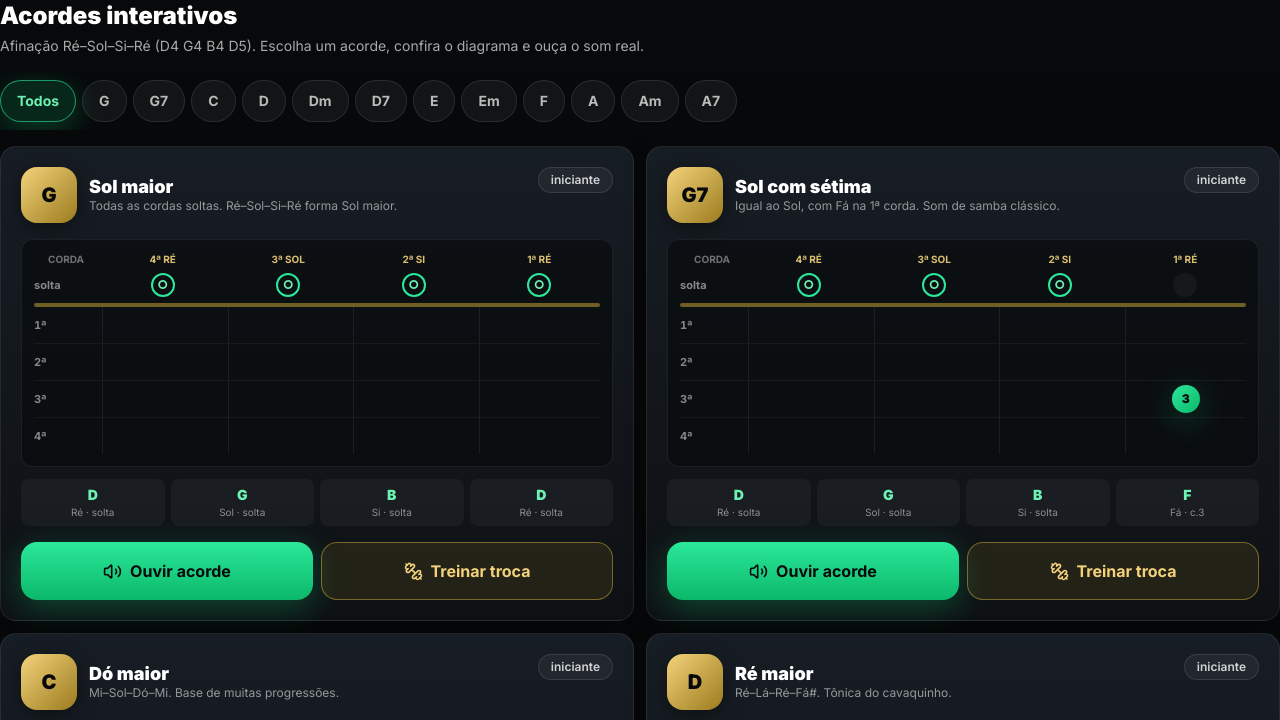
Scenario: seletor de acordes › filtra o diagrama pelo chip selecionado
Expected: the element with test id "chord-G" is shown, x1=0 y1=146 x2=634 y2=621
What coordinates should you click on to do the following:
click the tab "C"
I would click on:
 (214, 101)
Its box is x1=191 y1=80 x2=236 y2=122.
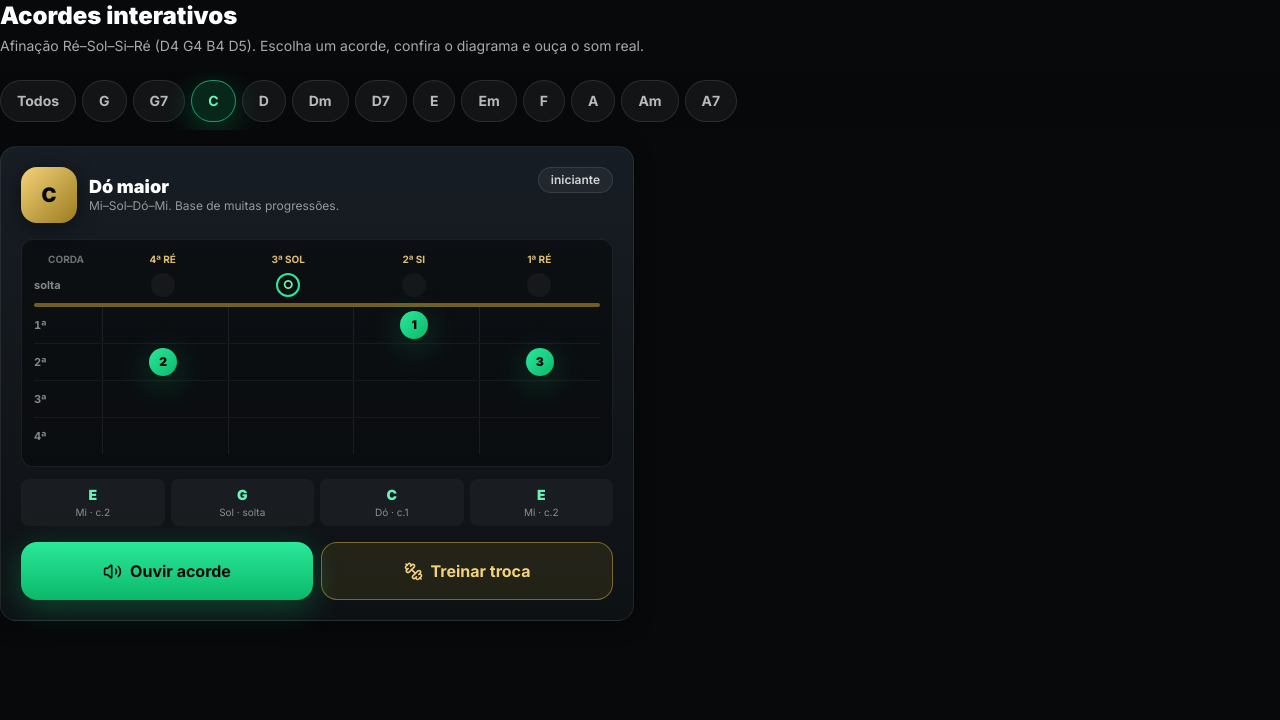
Expected: the element with test id "chord-C" is shown, x1=0 y1=146 x2=634 y2=621
Expected: the element with test id "chord-G" is gone
